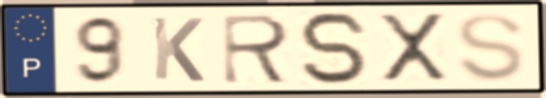9: (70, 14, 128, 86)
K: (149, 14, 208, 84)
R: (220, 12, 295, 86)
S: (294, 10, 374, 88), (454, 10, 528, 84)
X: (374, 11, 452, 85)
